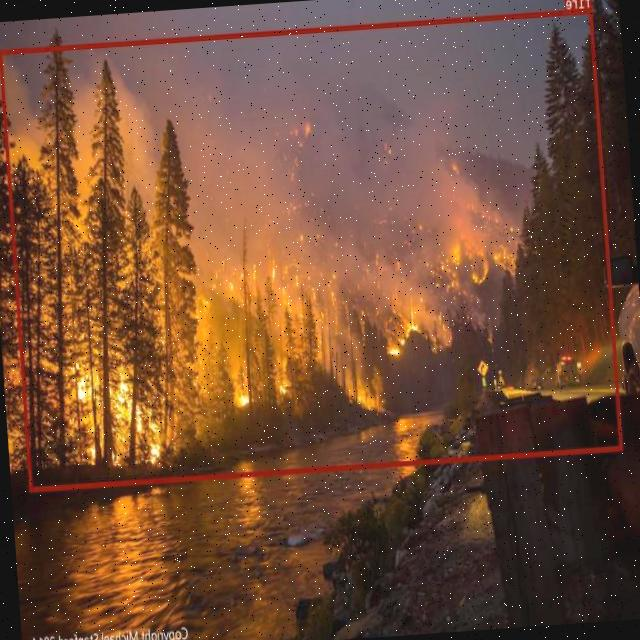fire: (0, 8, 623, 490)
